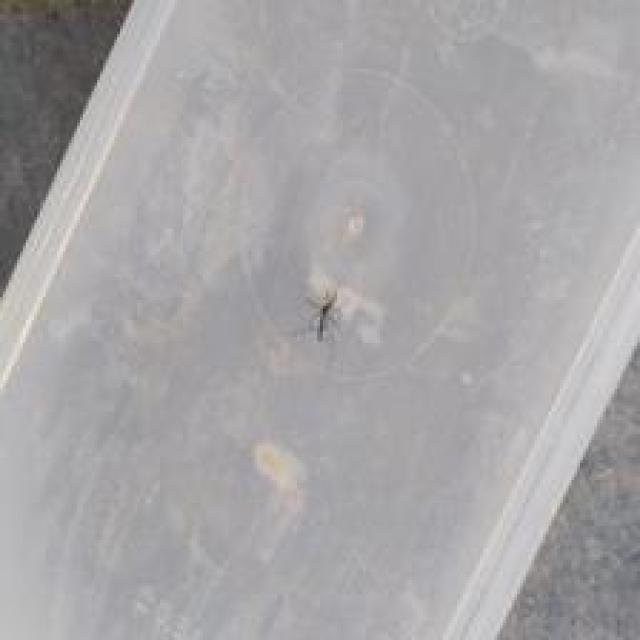Aedes albopictus: (304, 287, 342, 342)
